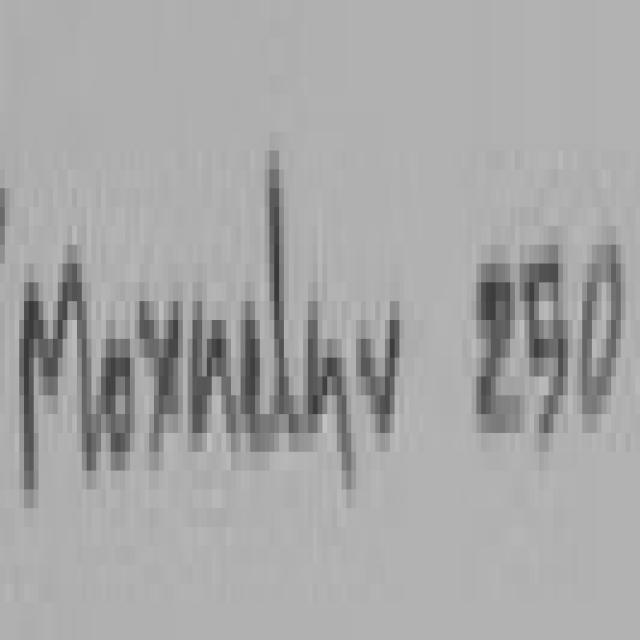0: (580, 200, 626, 456)
2: (457, 233, 522, 494)
5: (522, 213, 574, 487)
M: (7, 202, 102, 530)
a: (298, 246, 352, 505), (183, 260, 238, 476)
c: (233, 273, 272, 514)
l: (259, 125, 304, 469)
o: (92, 307, 138, 476)
v: (356, 260, 408, 510)
x: (132, 260, 188, 514)
